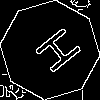H: (25, 25, 84, 82)
